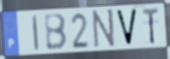2: (70, 12, 90, 50)
B: (43, 13, 68, 52)
I: (31, 14, 40, 53)
N: (92, 8, 116, 50)
T: (141, 6, 160, 47)
V: (115, 8, 139, 48)
